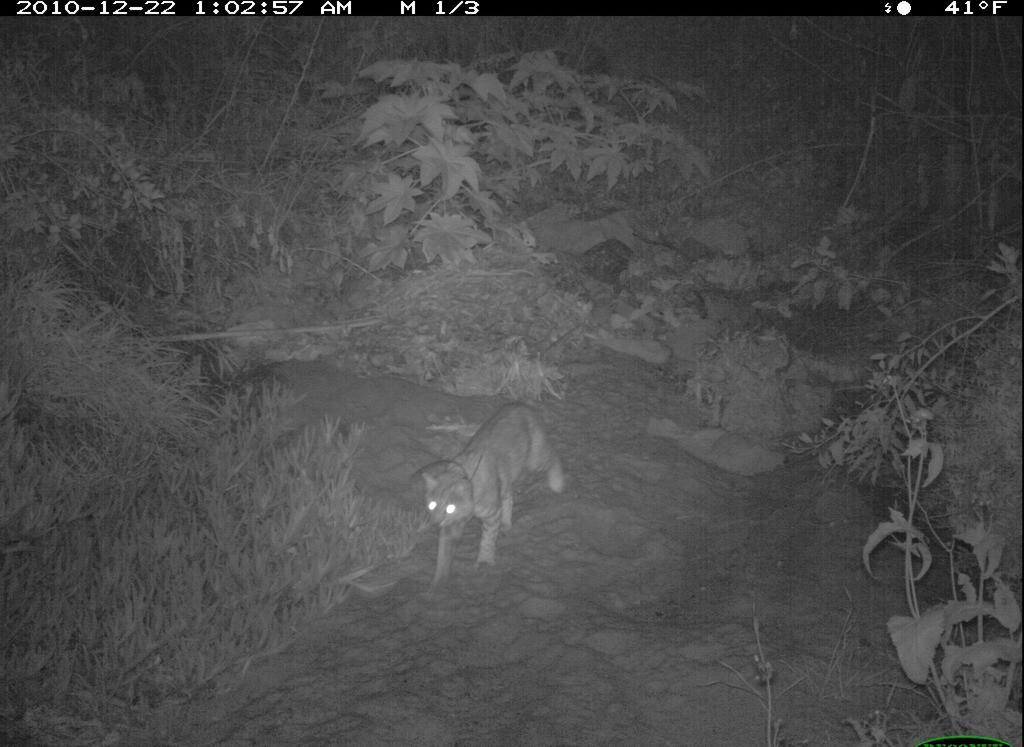bobcat: (415, 400, 566, 588)
